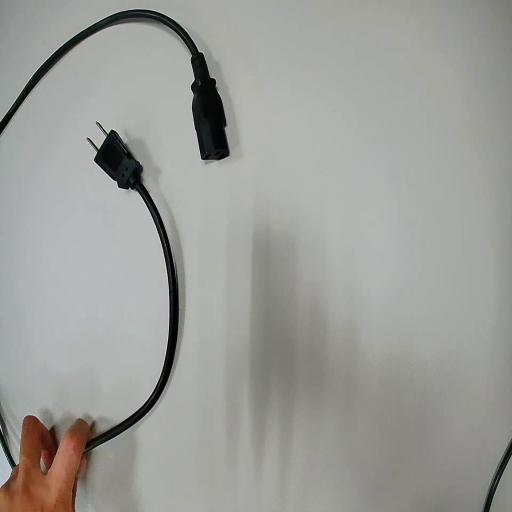wire: (0, 11, 228, 158), (83, 131, 178, 457)
